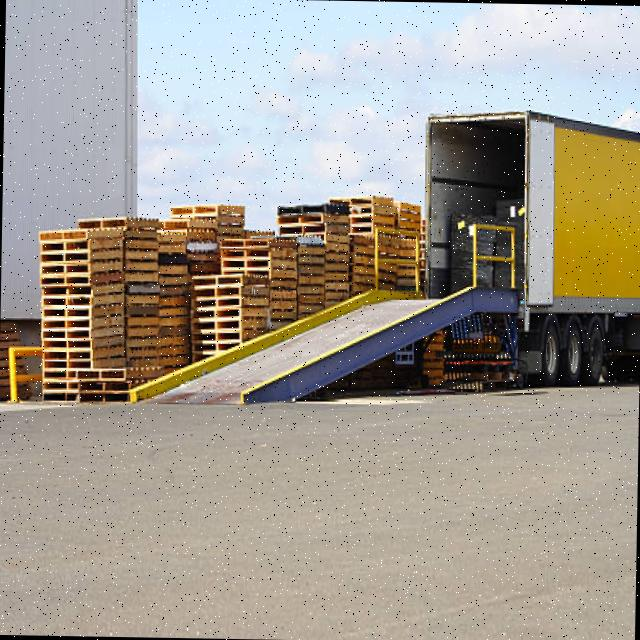Wooden-Pallets: (66, 362, 130, 398), (36, 286, 99, 316), (163, 194, 226, 223), (191, 268, 247, 297), (35, 226, 91, 250)
